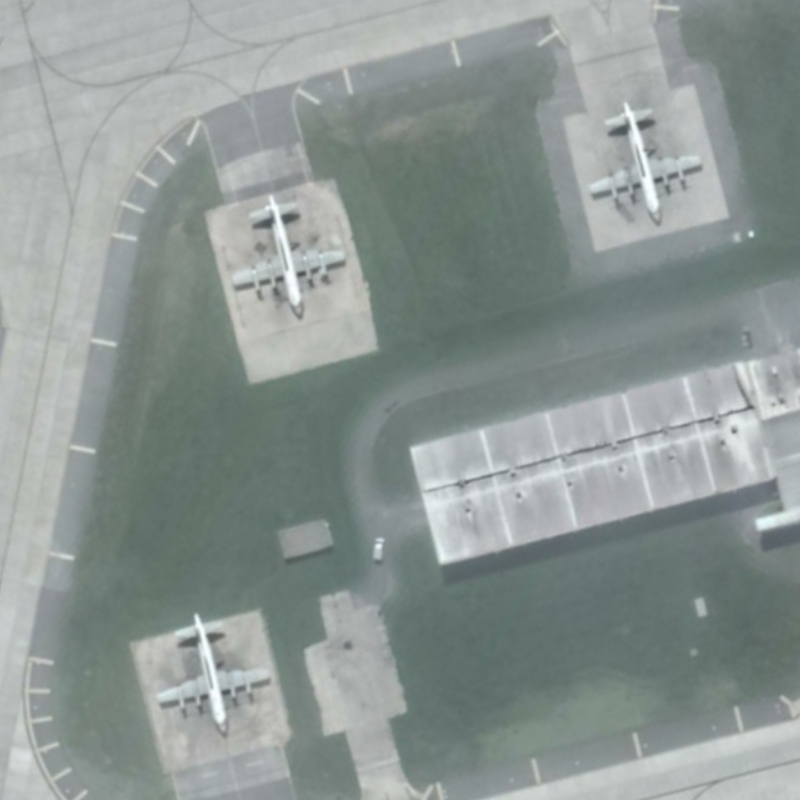A9: (223, 187, 356, 328), (582, 94, 710, 231), (149, 606, 276, 743)
